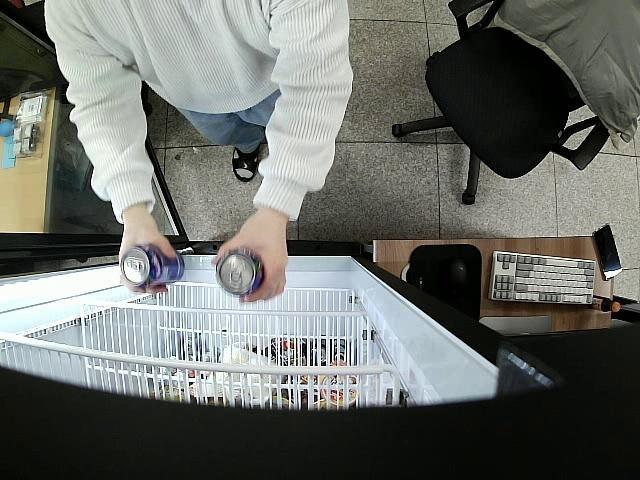14_welchsGrape: (121, 246, 184, 288), (215, 249, 262, 296)
